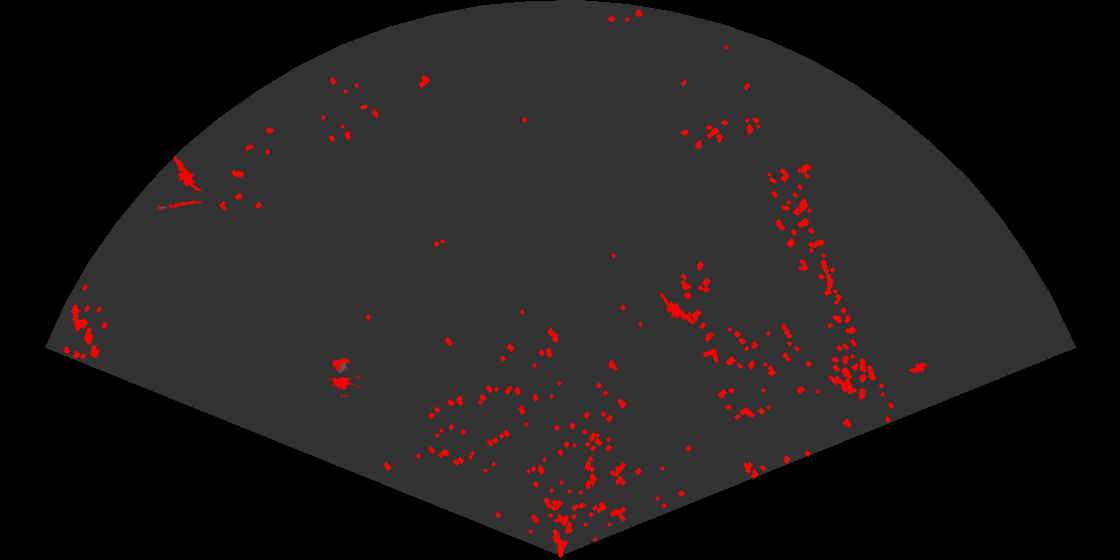AUV: (907, 361, 929, 374)
cage: (327, 356, 361, 397)
chain: (156, 199, 203, 213)
frogman: (660, 293, 697, 330), (172, 155, 202, 191)
